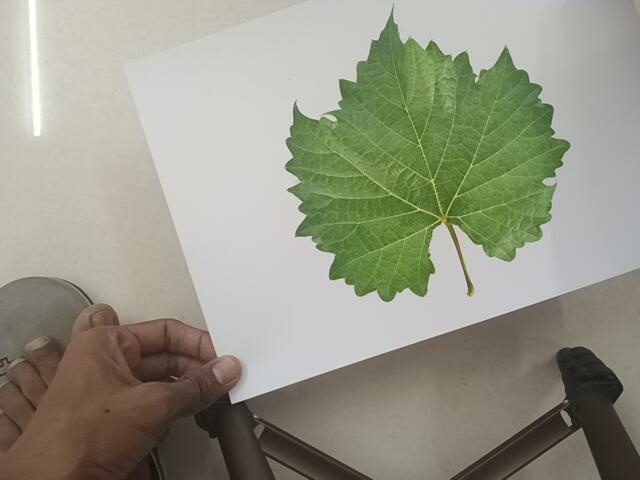Grape_Healthy: (278, 5, 576, 303)
